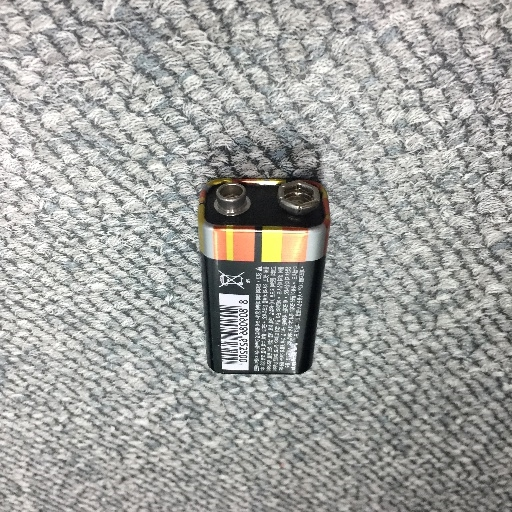Battery_3: (187, 165, 339, 402)
